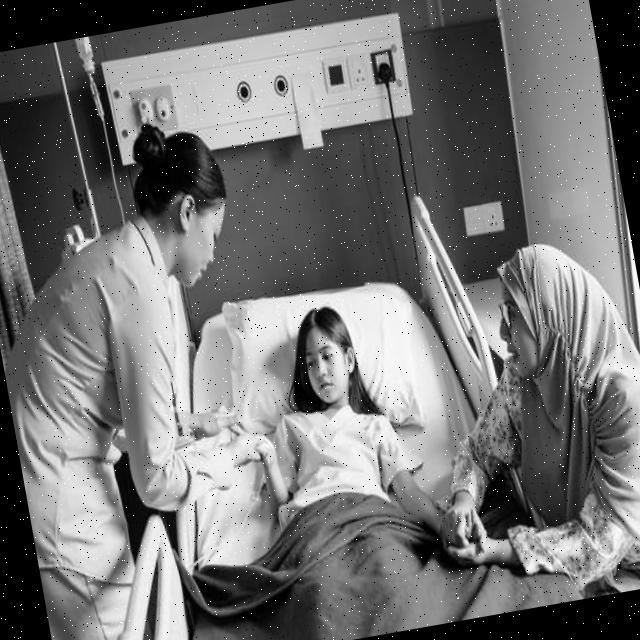Fear: (299, 318, 347, 404)
